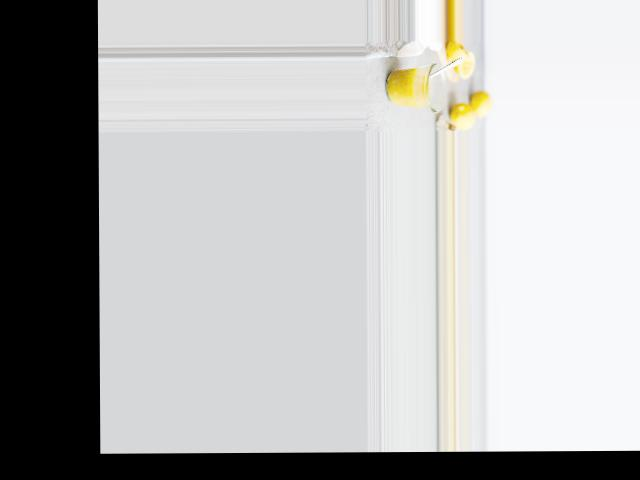lemon: (473, 91, 495, 122)
